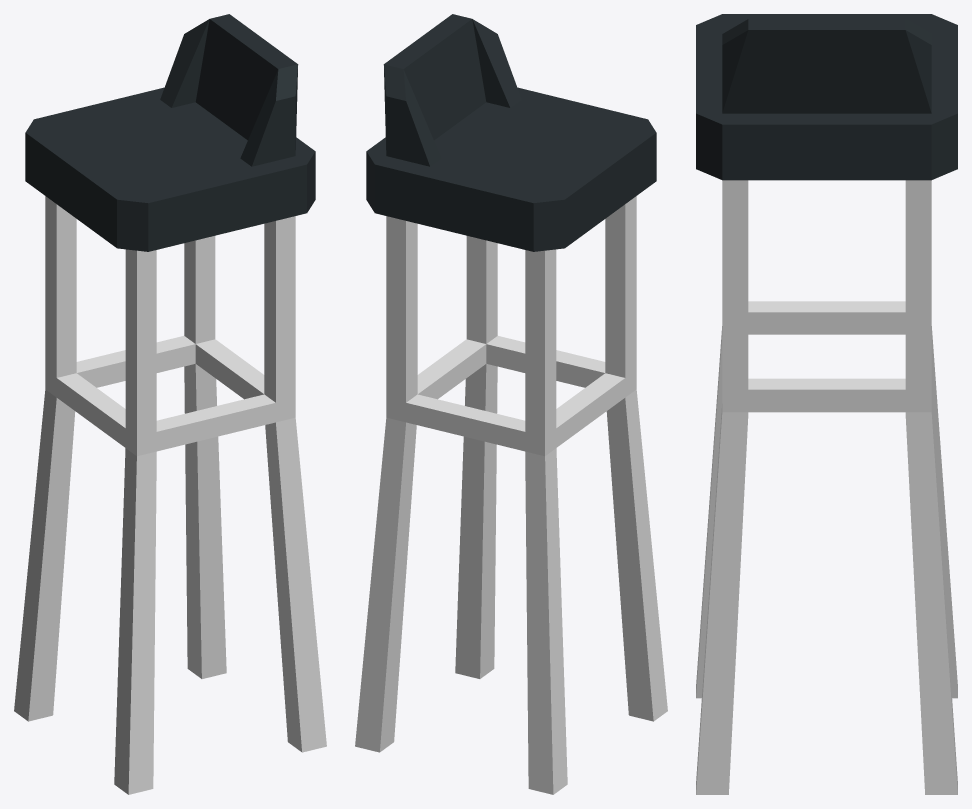
File: bar_chair.fbx
3 renders of one model, left to right at view 1: azimuth 30°, elevation 25°; view 2: azimuth 150°, elevation 25°; view 3: azimuth 270°, elevation 25°, orthographic. The views are drawn at different scales.
Visible parts, largest first — view 1: Cube; view 2: Cube; view 3: Cube.
Boxes of the visible parts, x1,y1,x2,y2 form: Cube: [14, 14, 326, 794]; Cube: [355, 14, 667, 794]; Cube: [696, 14, 957, 794].
Bounding box in the file's own units: 2 × 6.42 × 2.
